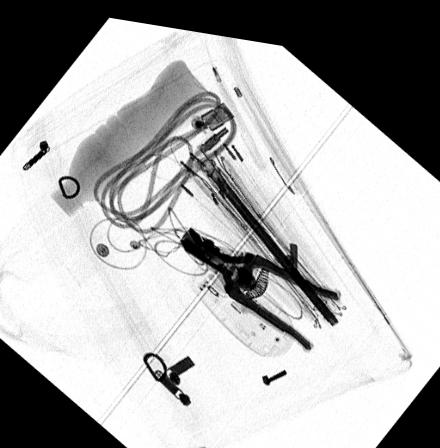Pliers: (178, 217, 342, 341)
